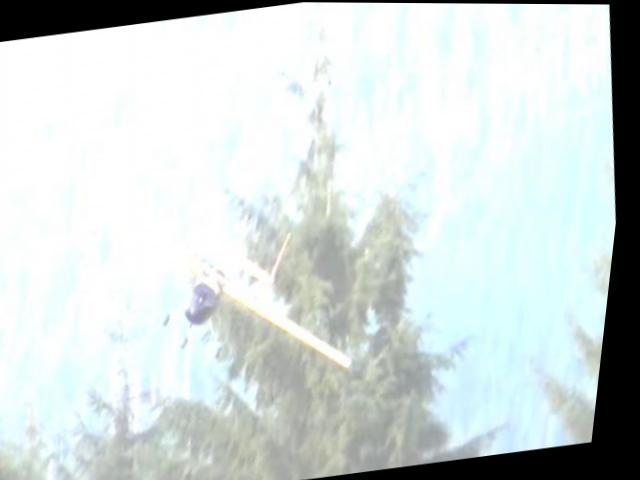iha: (57, 142, 388, 410)
